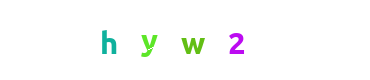2: (196, 0, 276, 80)
H: (67, 0, 147, 80)
W: (145, 0, 225, 80)
Y: (133, 0, 213, 80)
